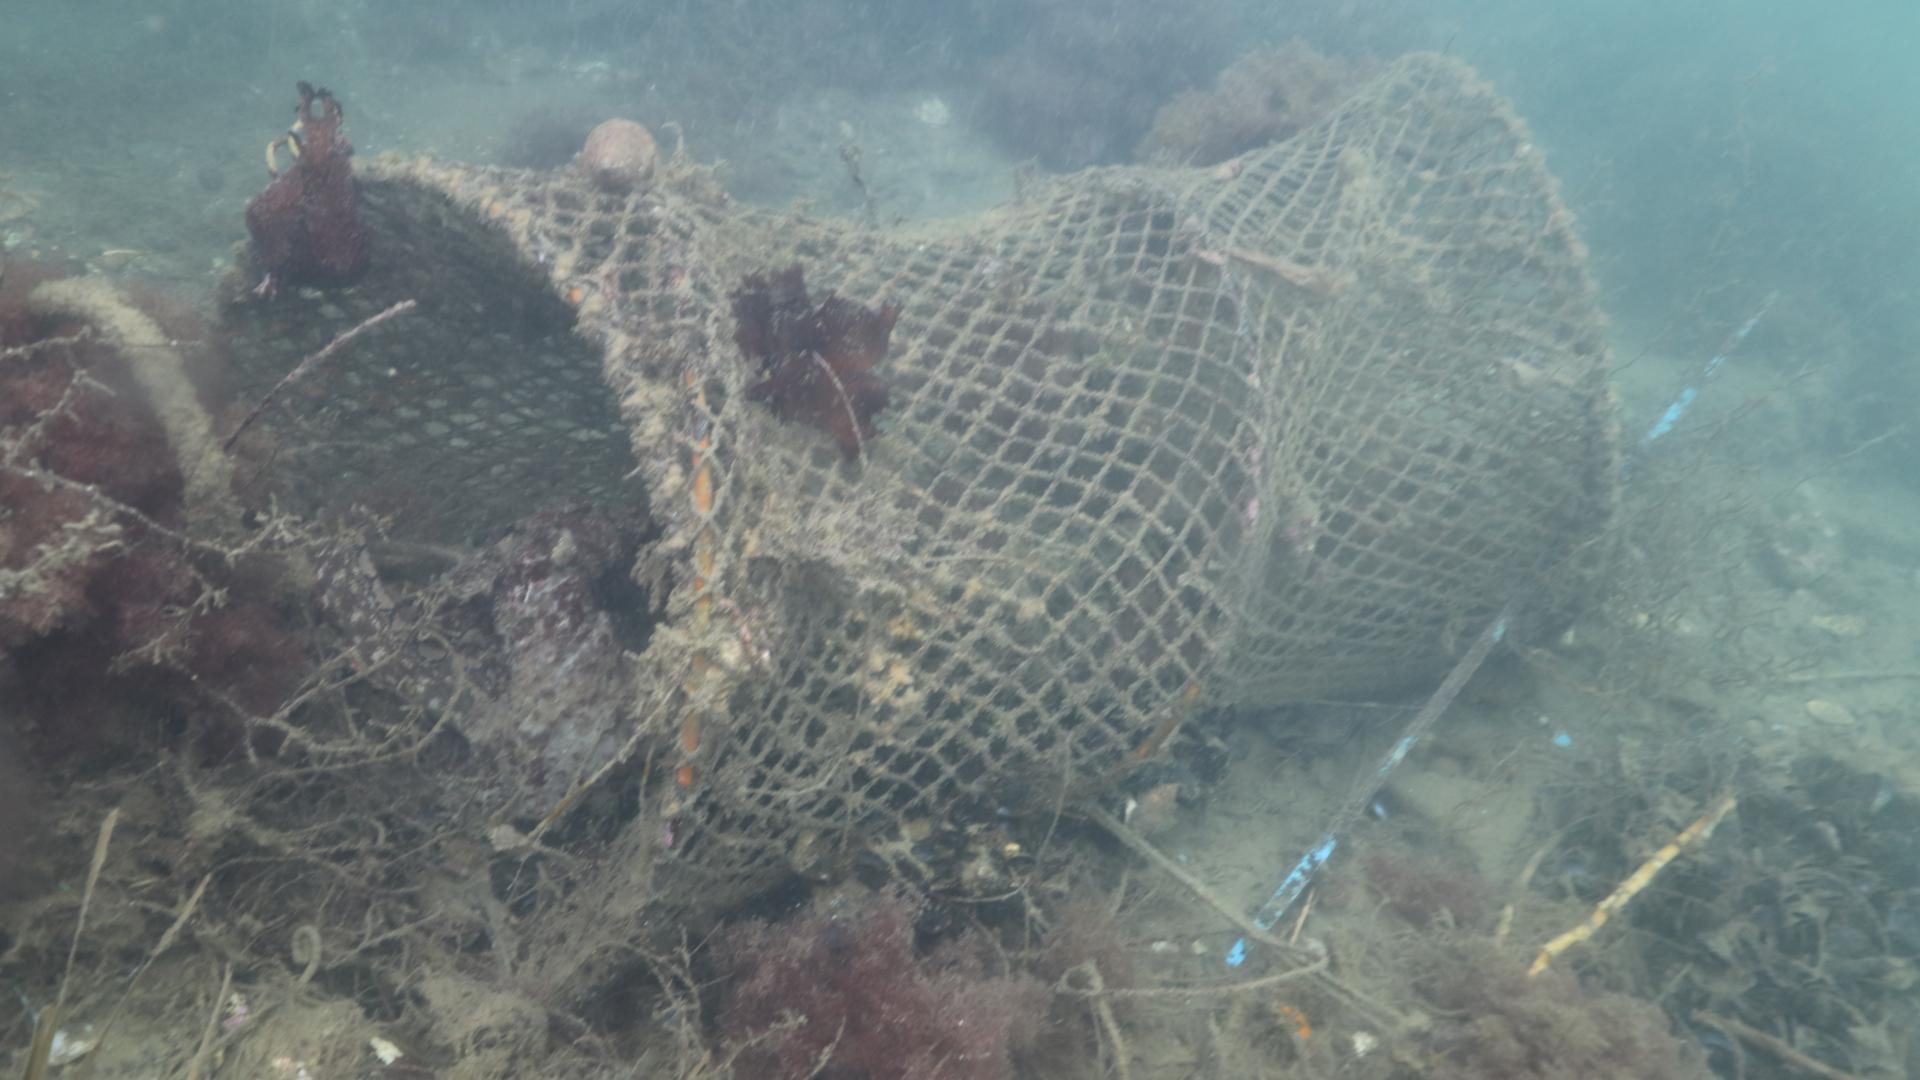rope: (28, 272, 251, 553)
spring fish trap: (204, 49, 1625, 1000)
